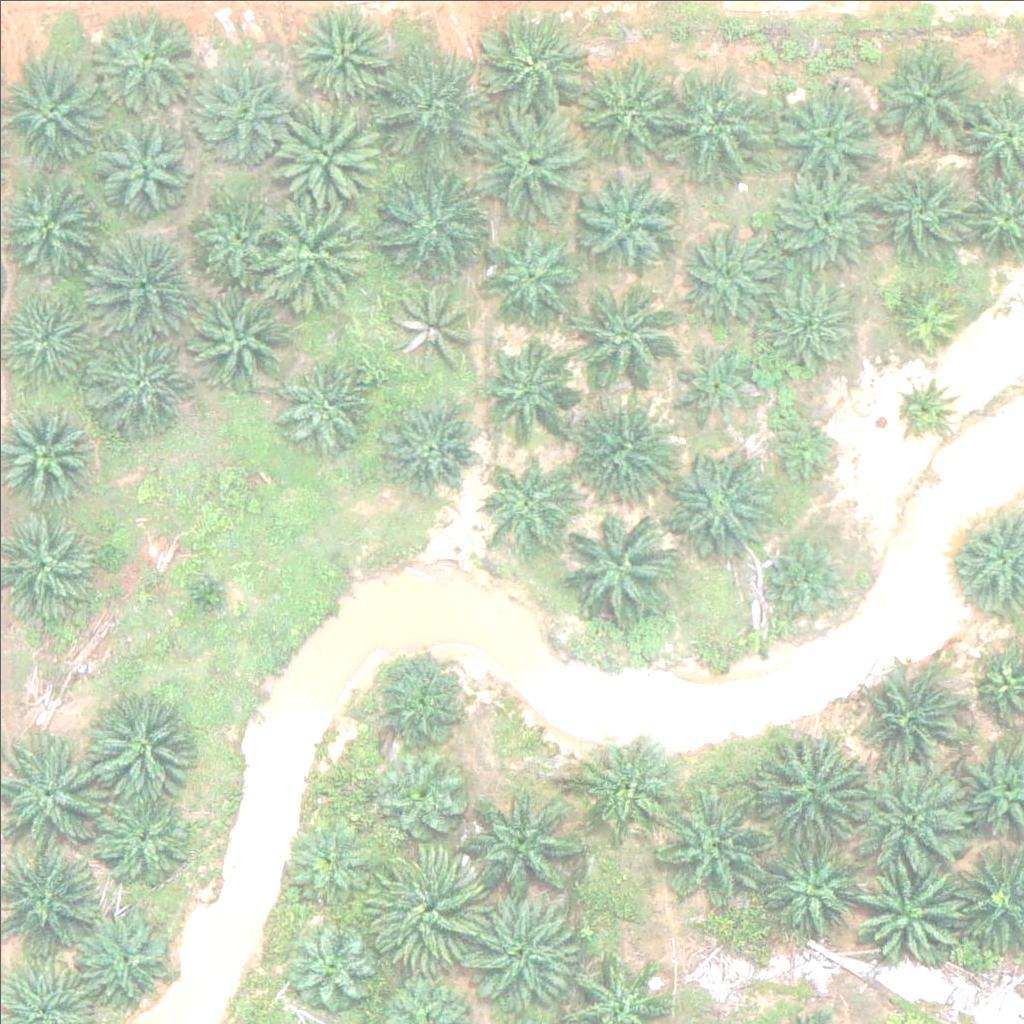Kelapa_Sawit: (85, 4, 198, 118), (758, 732, 871, 846), (87, 684, 200, 797), (86, 226, 199, 339), (474, 5, 587, 118), (561, 515, 674, 628), (667, 442, 780, 555), (769, 164, 882, 277), (772, 76, 885, 189), (870, 37, 983, 150), (370, 854, 483, 967), (563, 283, 675, 397), (665, 66, 777, 180), (459, 892, 571, 1006), (182, 282, 294, 395), (259, 199, 371, 312), (272, 101, 384, 214), (370, 46, 482, 159), (374, 167, 486, 280), (470, 791, 582, 904), (476, 105, 588, 218), (575, 48, 687, 161), (572, 387, 684, 500), (659, 791, 771, 904), (851, 758, 963, 871), (852, 854, 964, 967), (93, 786, 193, 887), (93, 108, 193, 209), (192, 64, 292, 165), (278, 353, 378, 454), (482, 333, 582, 434), (580, 171, 680, 272), (680, 220, 780, 321), (872, 154, 972, 255), (764, 839, 864, 940), (74, 906, 174, 1007), (90, 324, 190, 424), (293, 2, 393, 102), (372, 652, 472, 752), (381, 399, 481, 499), (482, 230, 582, 330), (575, 731, 675, 831), (865, 666, 965, 766), (757, 273, 857, 373), (194, 193, 282, 281), (380, 757, 468, 845), (669, 339, 757, 427), (764, 531, 852, 619), (283, 822, 371, 910), (385, 280, 472, 368), (483, 450, 570, 538), (286, 914, 373, 1002), (765, 413, 840, 488), (889, 275, 964, 350), (892, 374, 955, 437), (185, 571, 235, 622)
